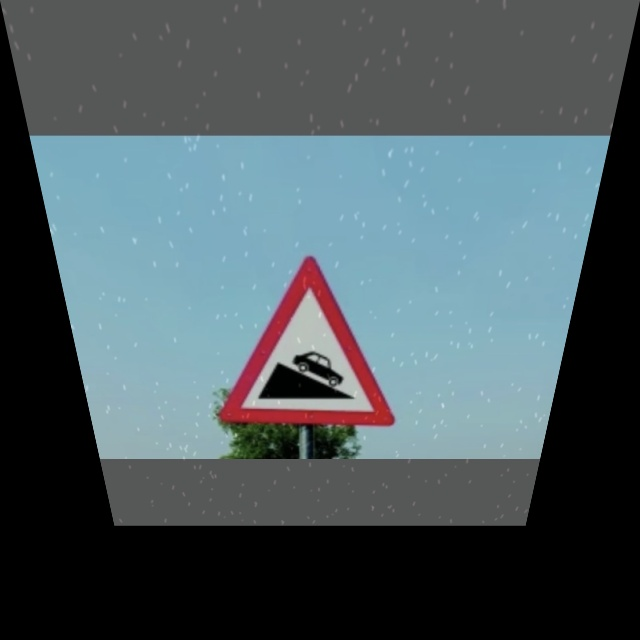Steep_Descent: (205, 256, 410, 431)
